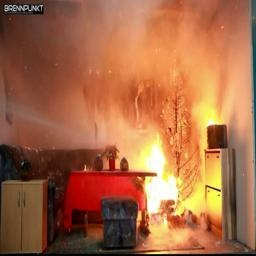fire: (131, 122, 187, 212)
smoke: (48, 8, 164, 103)
